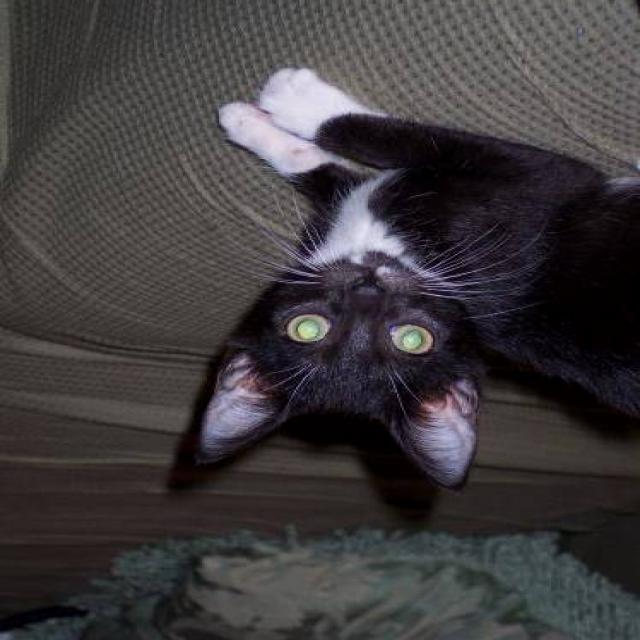Kucing: (149, 31, 640, 482)
